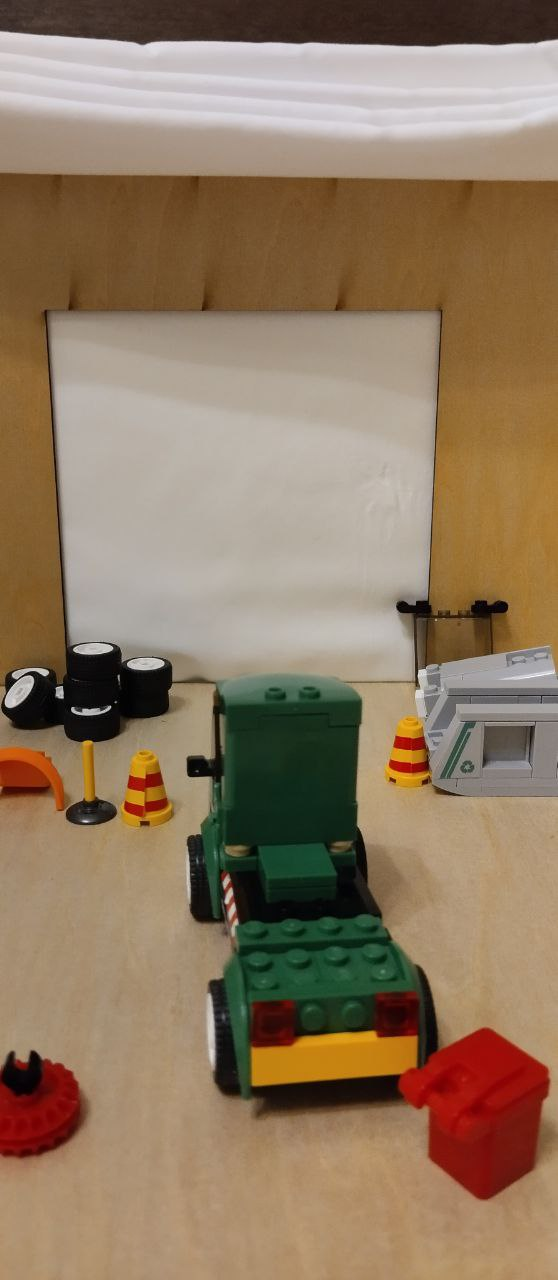Cone: (117, 746, 180, 828), (378, 710, 439, 792)
Object Red: (397, 1027, 551, 1203)
Truck: (170, 665, 442, 1112)
